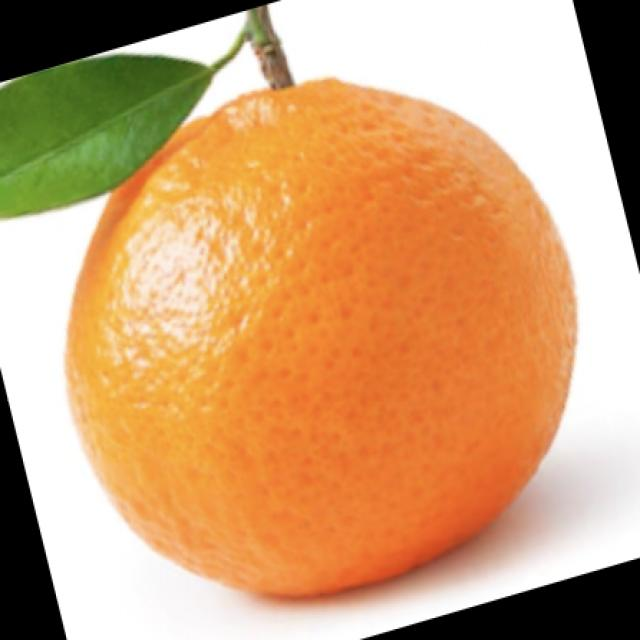fresh: (8, 14, 605, 613)
